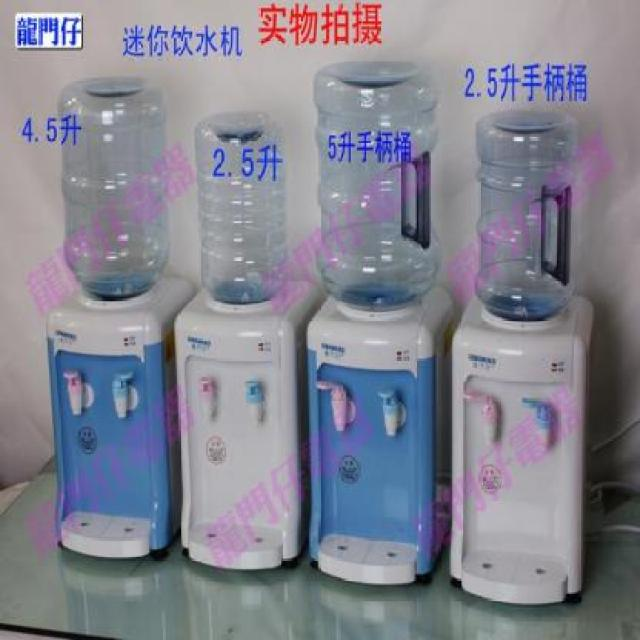coolerbottle: (309, 51, 443, 314), (50, 69, 174, 305), (472, 97, 588, 324), (192, 96, 292, 312)
